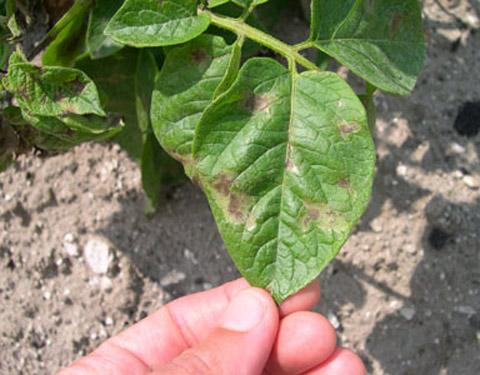Potato leaf: (189, 52, 377, 303)
